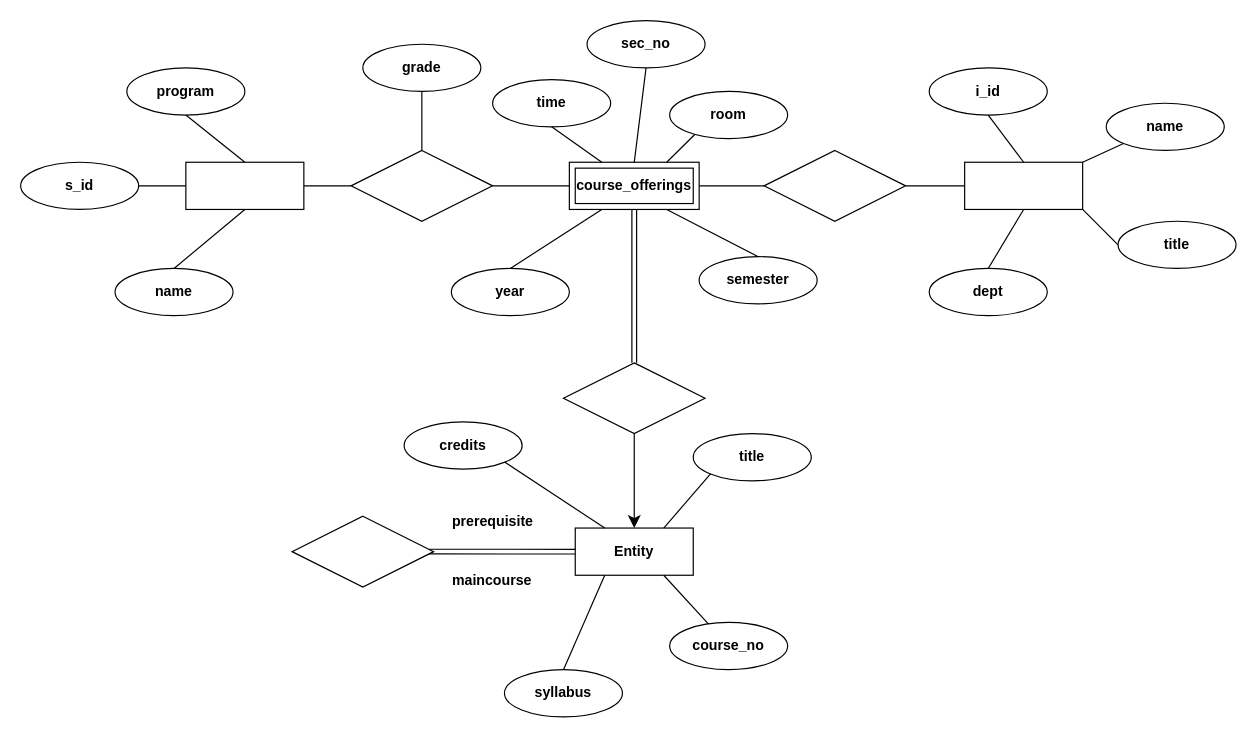
Image size: 1257x737. Some labels were removed from this diagram. Each missing label, with the box of its shape:
enrolls: (350, 149, 493, 221)
instructor: (963, 161, 1083, 209)
is offered: (562, 362, 705, 434)
requires: (291, 515, 434, 587)
student: (185, 161, 304, 209)
teaches: (763, 149, 906, 221)
